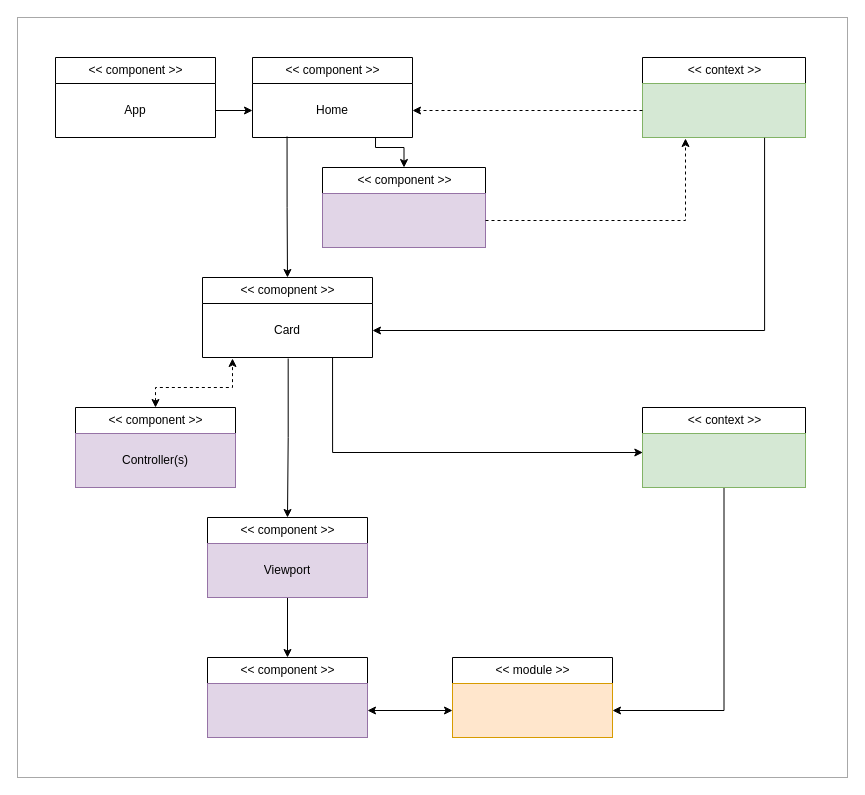
This 865x795 diagram has some shape labels left out. Each missing label, with the centre of its shape:
"Instanced Points" belongs at pixel 287 710.
"Layouts" belongs at pixel 532 710.
"SelectCard" belongs at pixel 404 220.
"User Context (projectname, dataset)" belongs at pixel 724 110.
"Viewport Data" belongs at pixel 724 460.
